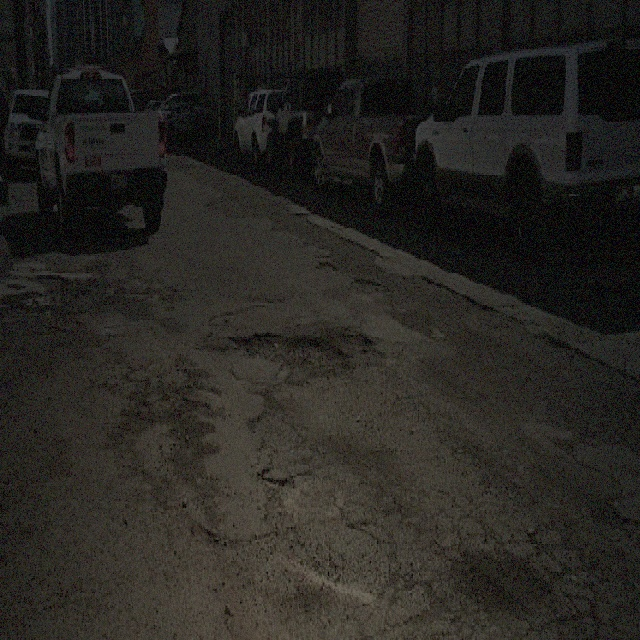pothole: (231, 324, 348, 371), (343, 326, 377, 358), (32, 264, 74, 286)
